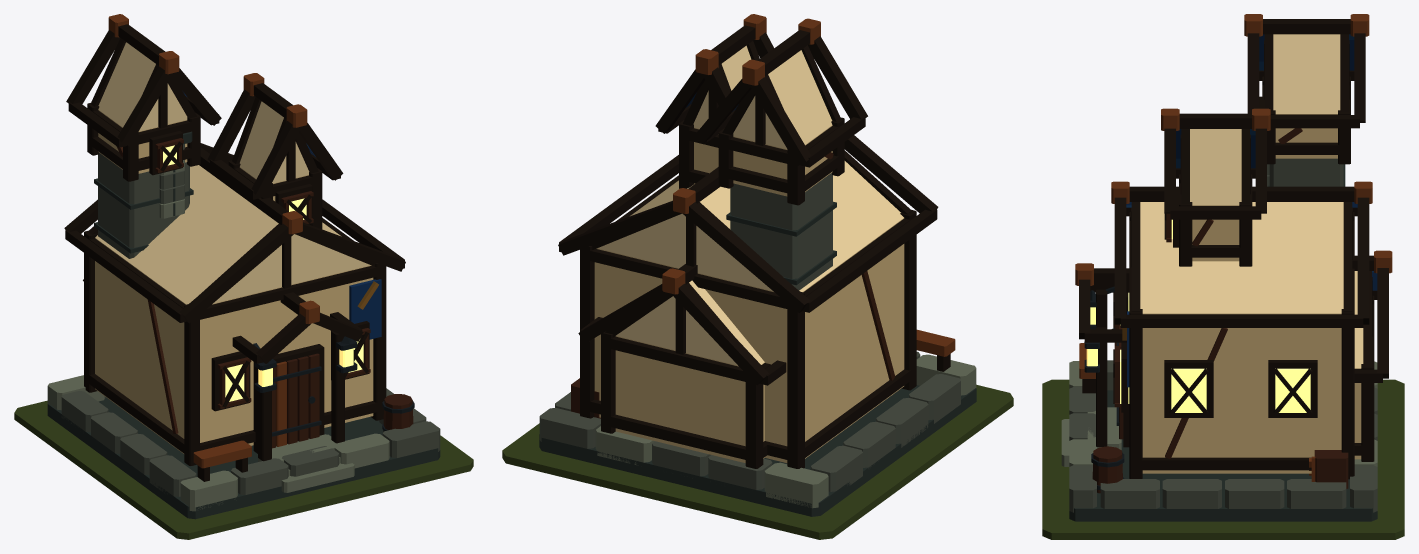
File: manor_hall_t5.glb
3 views of the same model, side by side, from view 1: azimuth 30°, elevation 25°; view 2: azimuth 150°, elevation 25°; view 3: azimuth 270°, elevation 25° (orthographic). The views are drawn at different scales.
Parts seen in each view (by area): view 1: MMR | hall | T05 Architecture.001, MMR | hall | Tier 05 Ground.001; view 2: MMR | hall | T05 Architecture.001, MMR | hall | Tier 05 Ground.001; view 3: MMR | hall | T05 Architecture.001, MMR | hall | Tier 05 Ground.001.
Part boxes in pixels (x1,y1,x2,y2): MMR | hall | T05 Architecture.001: (47, 14, 440, 519); MMR | hall | Tier 05 Ground.001: (14, 400, 473, 539); MMR | hall | T05 Architecture.001: (539, 14, 976, 516); MMR | hall | Tier 05 Ground.001: (502, 384, 1013, 539); MMR | hall | T05 Architecture.001: (1061, 14, 1392, 521); MMR | hall | Tier 05 Ground.001: (1042, 379, 1404, 539).
Bounding box in the file's own units: 2.35 × 2.96 × 2.35.
Materials: 2 (1 with a texture image).
